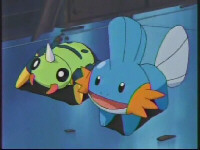mudkip: (76, 17, 191, 135)
